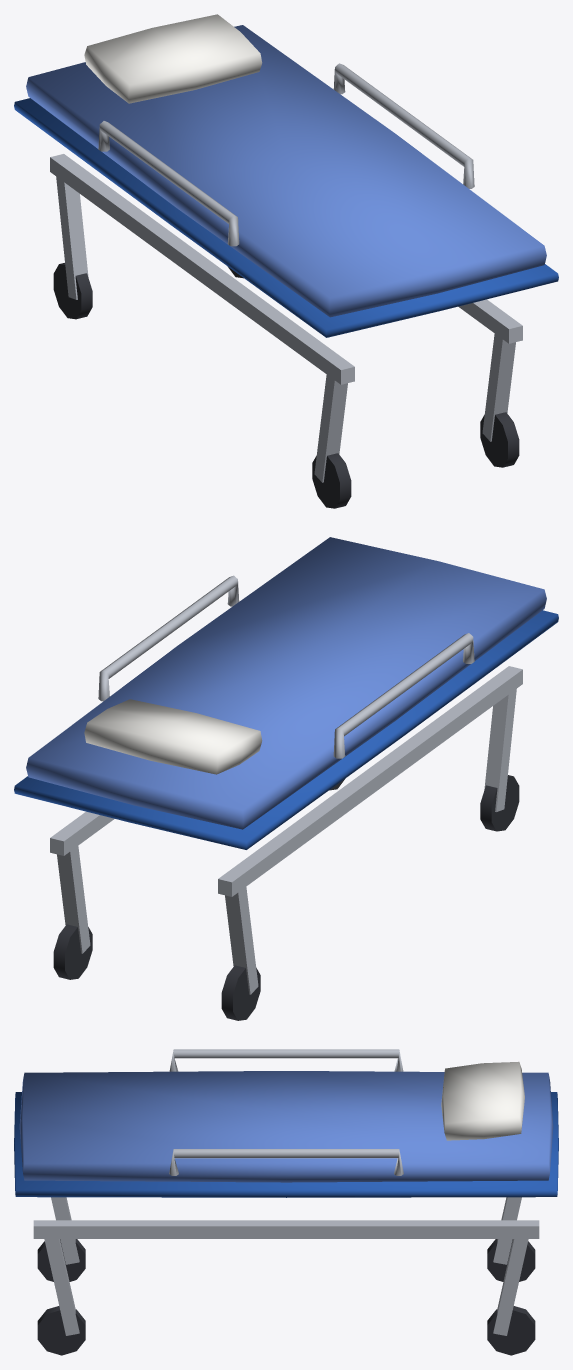
The model's file is stretcher.glb.
The picture shows the model from 3 angles, top to bottom: view 1: azimuth 30°, elevation 25°; view 2: azimuth 150°, elevation 25°; view 3: azimuth 270°, elevation 25°; orthographic projection. The views are drawn at different scales.
Parts seen in each view (by area): view 1: root; view 2: root; view 3: root.
Part boxes in pixels (<box>): root: <box>14,14,558,508</box>; root: <box>14,537,558,1020</box>; root: <box>14,1049,558,1355</box>.
Bounding box in the file's own units: 0.8712 × 0.9019 × 1.94.
